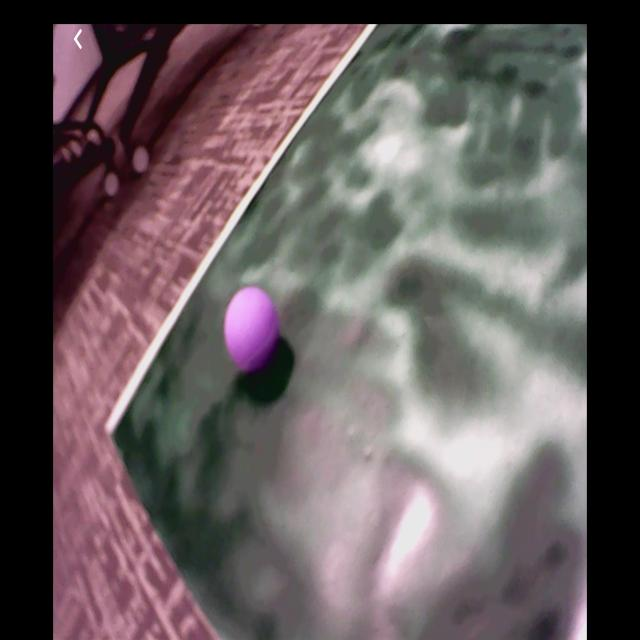ball: (225, 291, 280, 371)
